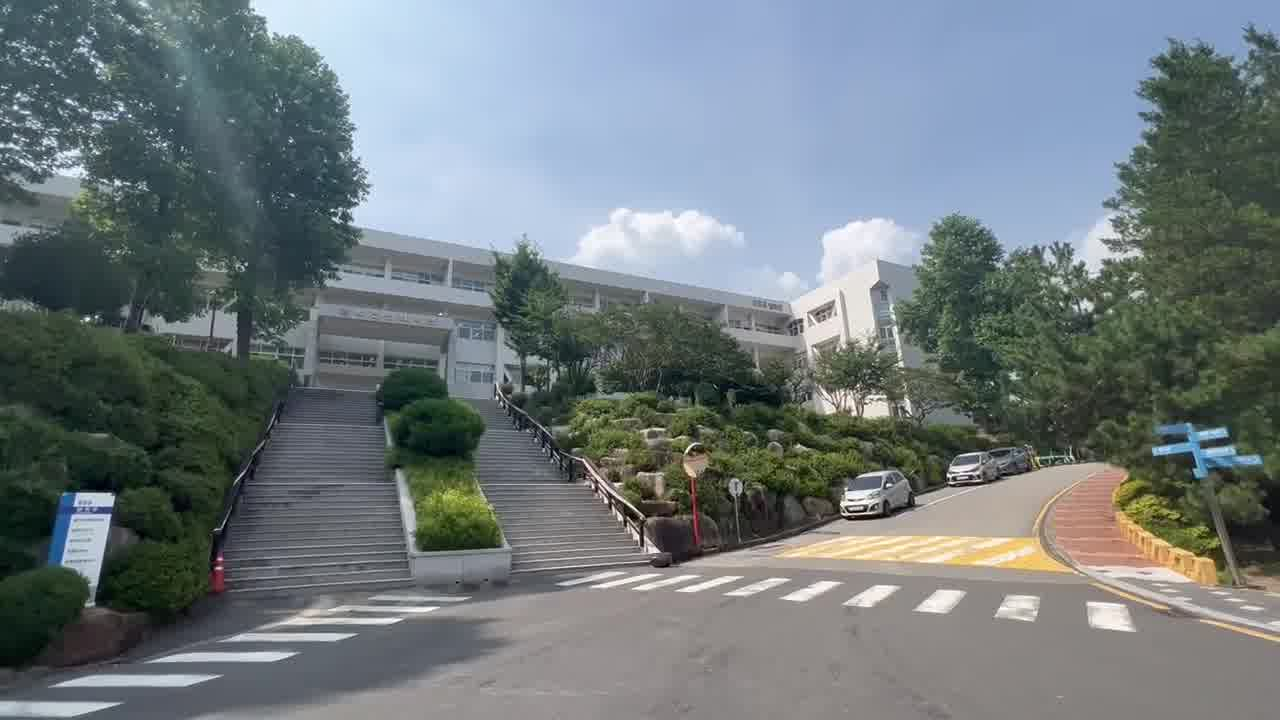low: (327, 228, 479, 371)
